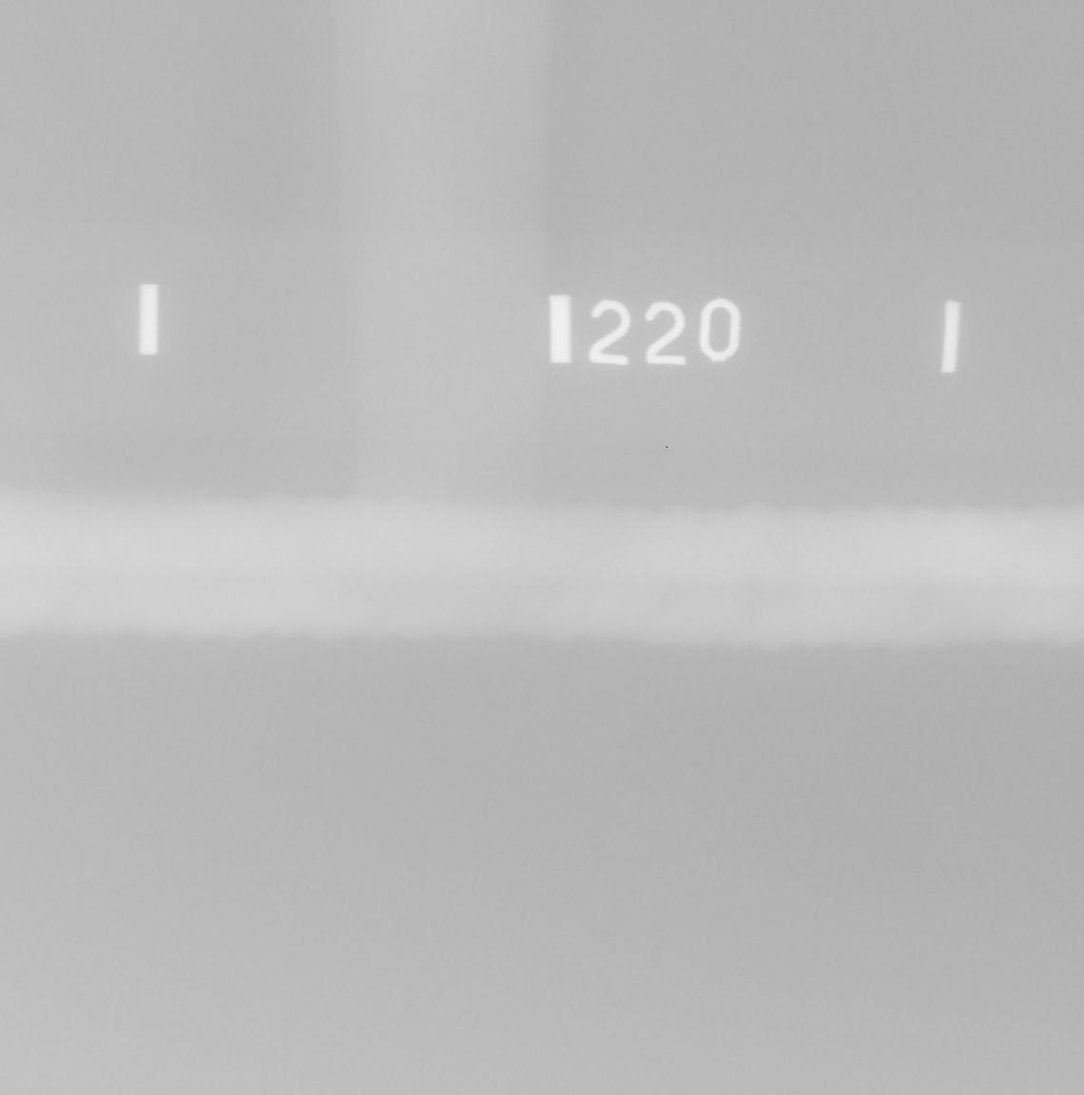Pore/Porosity: (1011, 563, 1021, 572), (367, 596, 374, 603)
